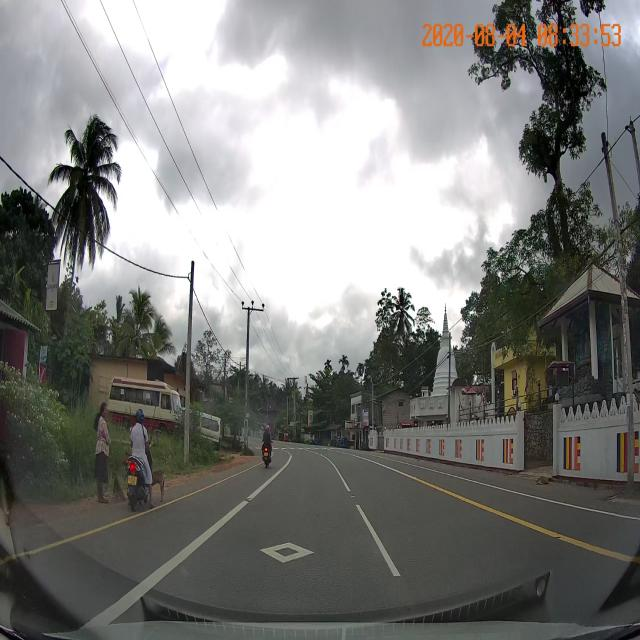diamond: (154, 518, 404, 582)
